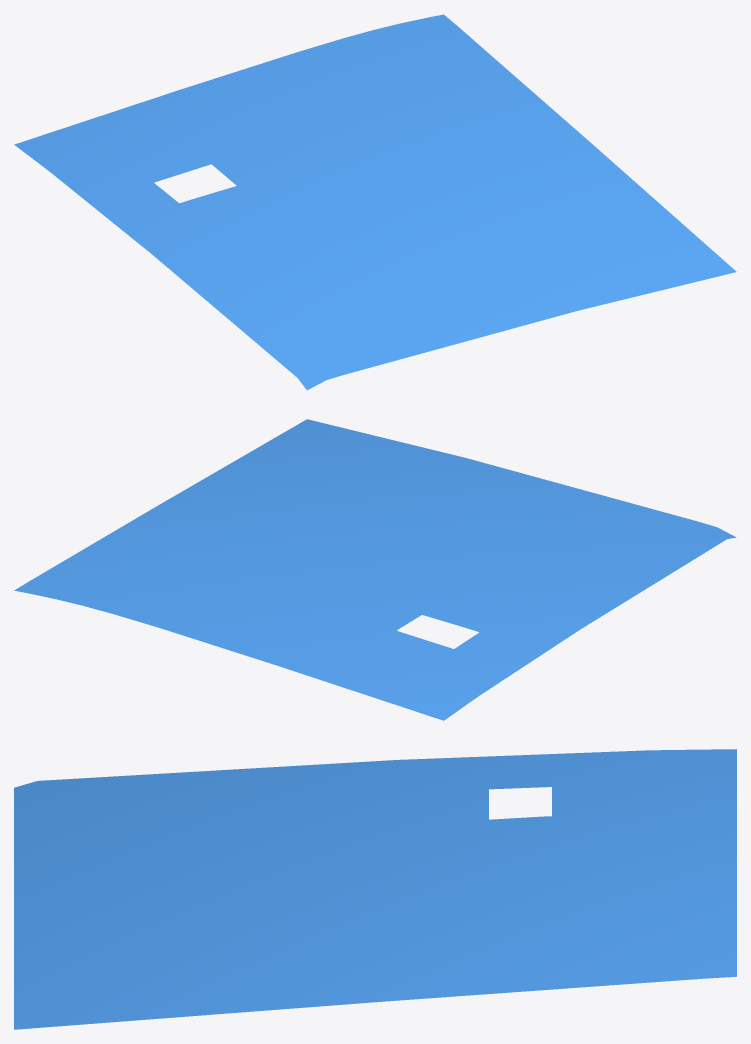
The model's file is kd_connection_world-inner_surface_14_1.glb.
The picture shows the model from 3 angles, top to bottom: view 1: azimuth 30°, elevation 25°; view 2: azimuth 150°, elevation 25°; view 3: azimuth 270°, elevation 25°; orthographic projection. The views are drawn at different scales.
Visible parts, largest first — view 1: kd_connection_world-inner_surface_14_1; view 2: kd_connection_world-inner_surface_14_1; view 3: kd_connection_world-inner_surface_14_1.
Part boxes in pixels (x1,y1,x2,y2): kd_connection_world-inner_surface_14_1: [14, 14, 736, 390]; kd_connection_world-inner_surface_14_1: [14, 419, 736, 720]; kd_connection_world-inner_surface_14_1: [14, 749, 736, 1029].
Size of the model in its own units: 2059 by 267 by 2431.
1 material, 1 textured.
